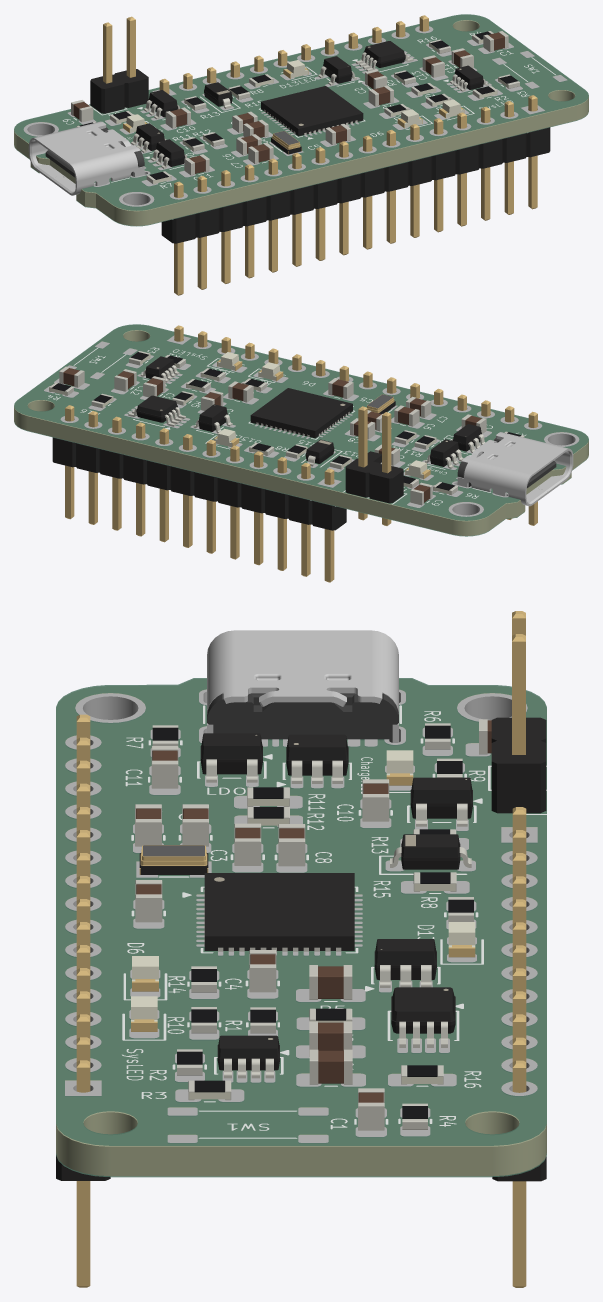
File: board.glb
3 renders of one model, top to bottom at view 1: azimuth 30°, elevation 25°; view 2: azimuth 150°, elevation 25°; view 3: azimuth 270°, elevation 25°, orthographic. The views are drawn at different scales.
Visible parts, largest first — view 1: =>[0:1:1:38], =>[0:1:1:36], =>[0:1:1:32], =>[0:1:1:33], =>[0:1:1:22], =>[0:1:1:5] (×9), =>[0:1:1:17], =>[0:1:1:13], =>[0:1:1:15] (×3), =>[0:1:1:30], =>[0:1:1:34], =>[0:1:1:9] (+6 smaller); view 2: =>[0:1:1:38], =>[0:1:1:36], =>[0:1:1:30], =>[0:1:1:33], =>[0:1:1:22], =>[0:1:1:5] (×8), =>[0:1:1:13], =>[0:1:1:17], =>[0:1:1:32], =>[0:1:1:34], =>[0:1:1:15] (×2), =>[0:1:1:9] (+7 smaller); view 3: =>[0:1:1:38], =>[0:1:1:36], =>[0:1:1:33], =>[0:1:1:5] (×12), =>[0:1:1:22], =>[0:1:1:17], =>[0:1:1:15] (×3), =>[0:1:1:32], =>[0:1:1:34], =>[0:1:1:21], =>[0:1:1:13], =>[0:1:1:30] (+8 smaller).
Part boxes in pixels (x1,y1,x2,y2): =>[0:1:1:38]: (14, 15, 588, 225); =>[0:1:1:36]: (14, 14, 588, 210); =>[0:1:1:32]: (161, 95, 550, 295); =>[0:1:1:33]: (23, 26, 567, 206); =>[0:1:1:22]: (28, 121, 144, 195); =>[0:1:1:5] (×9): (71, 31, 508, 175); =>[0:1:1:17]: (261, 86, 363, 136); =>[0:1:1:13]: (90, 16, 148, 113); =>[0:1:1:15] (×3): (143, 56, 356, 168); =>[0:1:1:30]: (159, 15, 428, 93); =>[0:1:1:34]: (62, 31, 555, 188); =>[0:1:1:9]: (356, 41, 413, 71); =>[0:1:1:38]: (14, 325, 588, 535); =>[0:1:1:36]: (14, 324, 588, 520); =>[0:1:1:30]: (52, 405, 346, 582); =>[0:1:1:33]: (44, 335, 579, 516); =>[0:1:1:22]: (457, 432, 573, 506); =>[0:1:1:5] (×8): (59, 366, 432, 505); =>[0:1:1:13]: (345, 406, 403, 525); =>[0:1:1:17]: (250, 388, 352, 438); =>[0:1:1:32]: (174, 325, 537, 525); =>[0:1:1:34]: (48, 347, 526, 505); =>[0:1:1:15] (×2): (193, 404, 485, 452); =>[0:1:1:9]: (128, 395, 185, 426); =>[0:1:1:38]: (56, 679, 546, 1176); =>[0:1:1:36]: (56, 678, 546, 1145); =>[0:1:1:33]: (65, 689, 537, 1142); =>[0:1:1:5] (×12): (135, 746, 389, 1130); =>[0:1:1:22]: (207, 630, 398, 742); =>[0:1:1:17]: (204, 873, 354, 951); =>[0:1:1:15] (×3): (200, 733, 472, 987); =>[0:1:1:32]: (56, 714, 110, 1287); =>[0:1:1:34]: (122, 705, 546, 1138); =>[0:1:1:21]: (207, 693, 398, 742); =>[0:1:1:13]: (491, 611, 546, 813); =>[0:1:1:30]: (492, 807, 546, 1287).
Size of the model in its own units: 0.0521 by 0.0188 by 0.0229.
